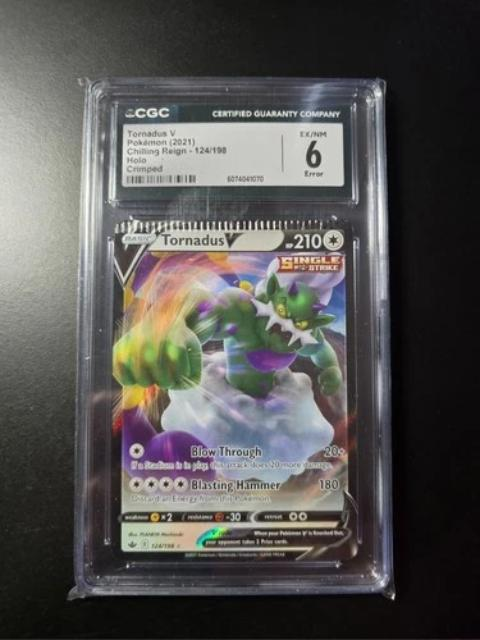Card: (105, 205, 362, 566)
Name: (156, 229, 248, 253)
